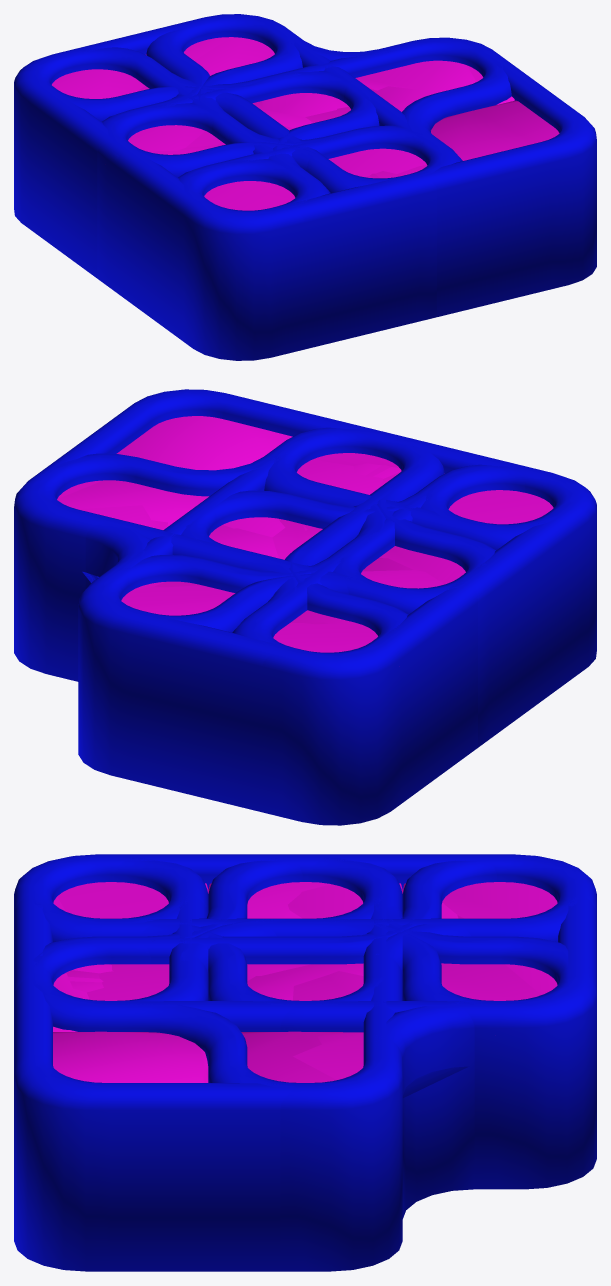
The model's file is vo block.fbx.
3 views of the same model, one above another, from view 1: azimuth 30°, elevation 25°; view 2: azimuth 150°, elevation 25°; view 3: azimuth 270°, elevation 25° (orthographic). The views are drawn at different scales.
Visible parts, largest first — view 1: vo smoth.012, vo smoth.008, vo smoth.004, vo smoth.010, vo smoth.007, vo smoth.011, vo smoth.005, vo smoth.009, vo smoth.002, vo smoth.003, vo smoth.006, vo smoth.001; view 2: vo smoth.006, vo smoth.012, vo smoth.004, vo smoth.007, vo smoth.005, vo smoth.010, vo smoth.011, vo smoth.003, vo smoth.009, vo smoth.002, vo smoth.001, vo smoth.008; view 3: vo smoth.012, vo smoth.005, vo smoth.006, vo smoth.011, vo smoth.007, vo smoth.009, vo smoth.004, vo smoth.003, vo smoth.001, vo smoth.002, vo smoth.010, vo smoth.008.
Boxes of the visible parts, x1,y1,x2,y2 form: vo smoth.012: [97, 38, 596, 360]; vo smoth.008: [108, 71, 446, 360]; vo smoth.004: [14, 47, 321, 263]; vo smoth.010: [21, 48, 457, 278]; vo smoth.007: [14, 16, 445, 193]; vo smoth.011: [100, 14, 511, 195]; vo smoth.005: [106, 38, 504, 182]; vo smoth.009: [110, 14, 379, 230]; vo smoth.002: [183, 126, 447, 305]; vo smoth.003: [108, 103, 451, 230]; vo smoth.006: [31, 15, 330, 213]; vo smoth.001: [178, 159, 314, 250]; vo smoth.006: [78, 465, 576, 821]; vo smoth.012: [31, 389, 596, 747]; vo smoth.004: [232, 466, 593, 825]; vo smoth.007: [99, 429, 444, 822]; vo smoth.005: [14, 428, 488, 681]; vo smoth.010: [181, 427, 489, 814]; vo smoth.011: [14, 429, 497, 632]; vo smoth.003: [264, 429, 591, 614]; vo smoth.009: [85, 464, 589, 629]; vo smoth.002: [264, 428, 595, 586]; vo smoth.001: [420, 465, 574, 548]; vo smoth.008: [188, 428, 596, 592]; vo smoth.012: [14, 854, 401, 1271]; vo smoth.005: [30, 856, 402, 1271]; vo smoth.006: [31, 856, 596, 1189]; vo smoth.011: [15, 856, 596, 1218]; vo smoth.007: [32, 856, 596, 1006]; vo smoth.009: [14, 856, 585, 1032]; vo smoth.004: [30, 854, 596, 942]; vo smoth.003: [30, 856, 402, 1006]; vo smoth.001: [30, 856, 208, 924]; vo smoth.002: [30, 856, 208, 1005]; vo smoth.010: [14, 856, 579, 1031]; vo smoth.008: [14, 856, 386, 1025].
Bounding box in the file's own units: 150 × 50 × 150.
